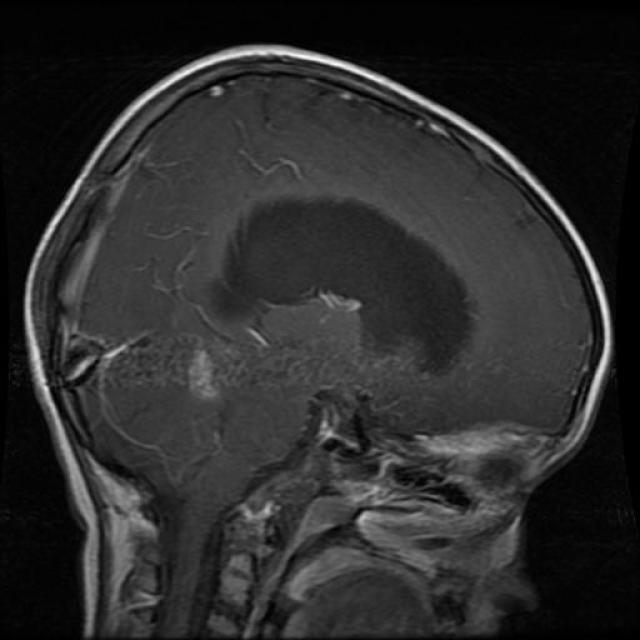glioma: (210, 192, 478, 376)
